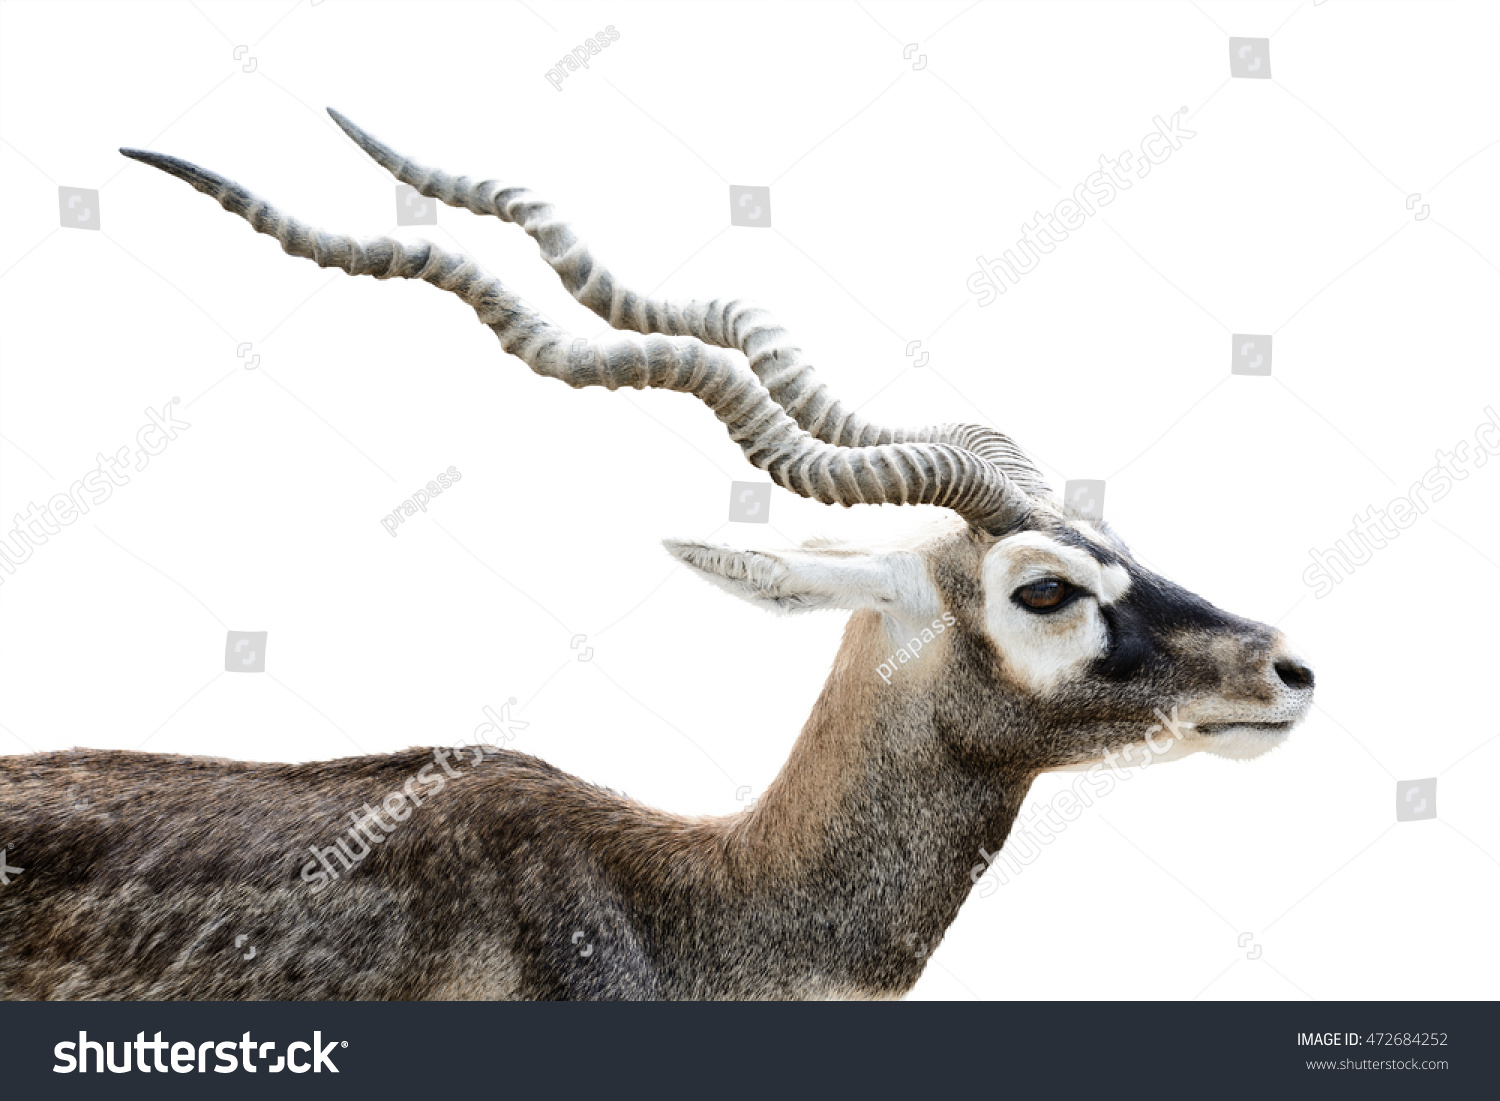Blackbuck: (1, 118, 1304, 976)
